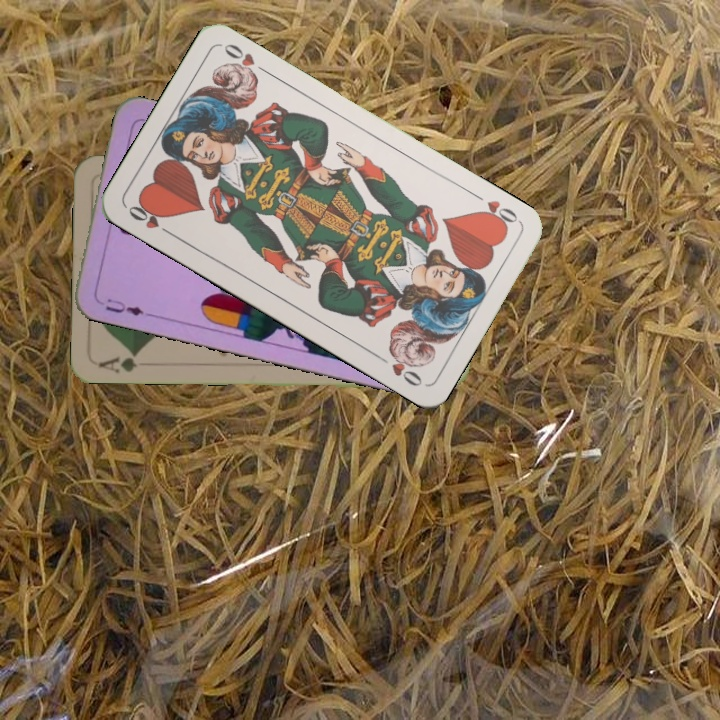EU: (101, 294, 147, 319)
GA: (95, 348, 143, 375)
HO: (124, 198, 176, 239), (473, 196, 522, 232)
